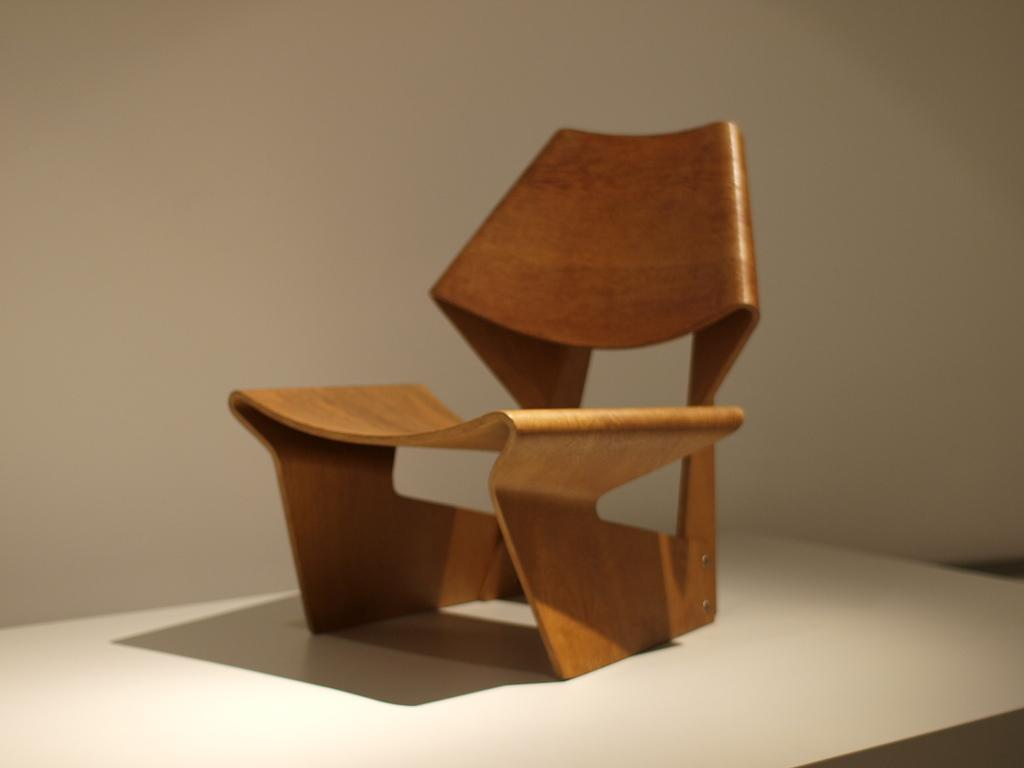Chair: (229, 146, 794, 691)
